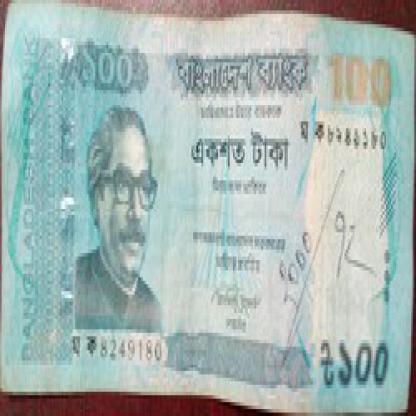one hundred taka: (72, 35, 145, 104), (328, 42, 394, 114), (338, 329, 394, 392)
